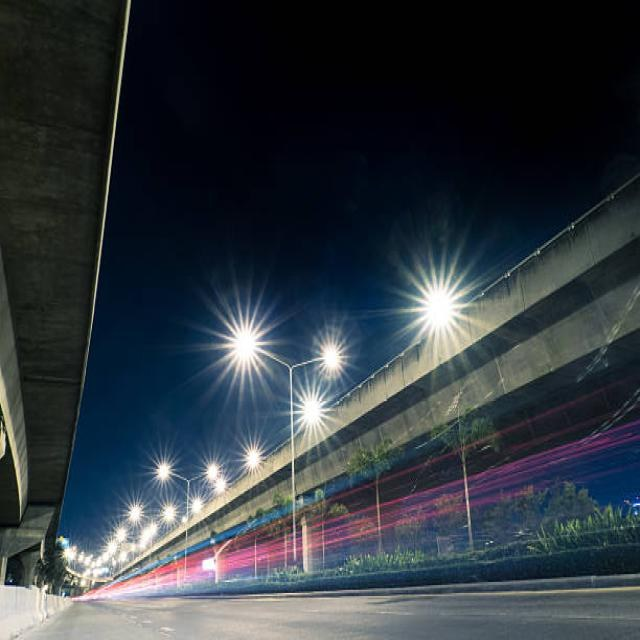acesa: (409, 263, 475, 352), (217, 304, 272, 385), (316, 328, 357, 388), (301, 378, 332, 450), (239, 430, 268, 477), (154, 451, 175, 488)
